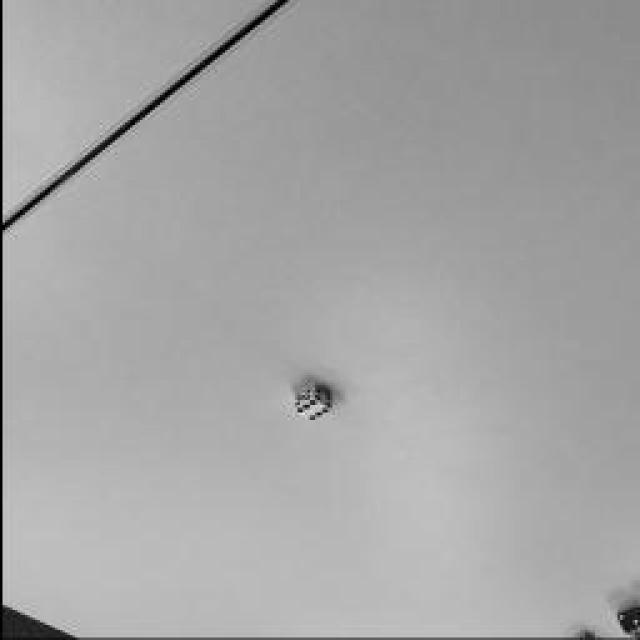dice_6: (292, 400, 328, 422)
